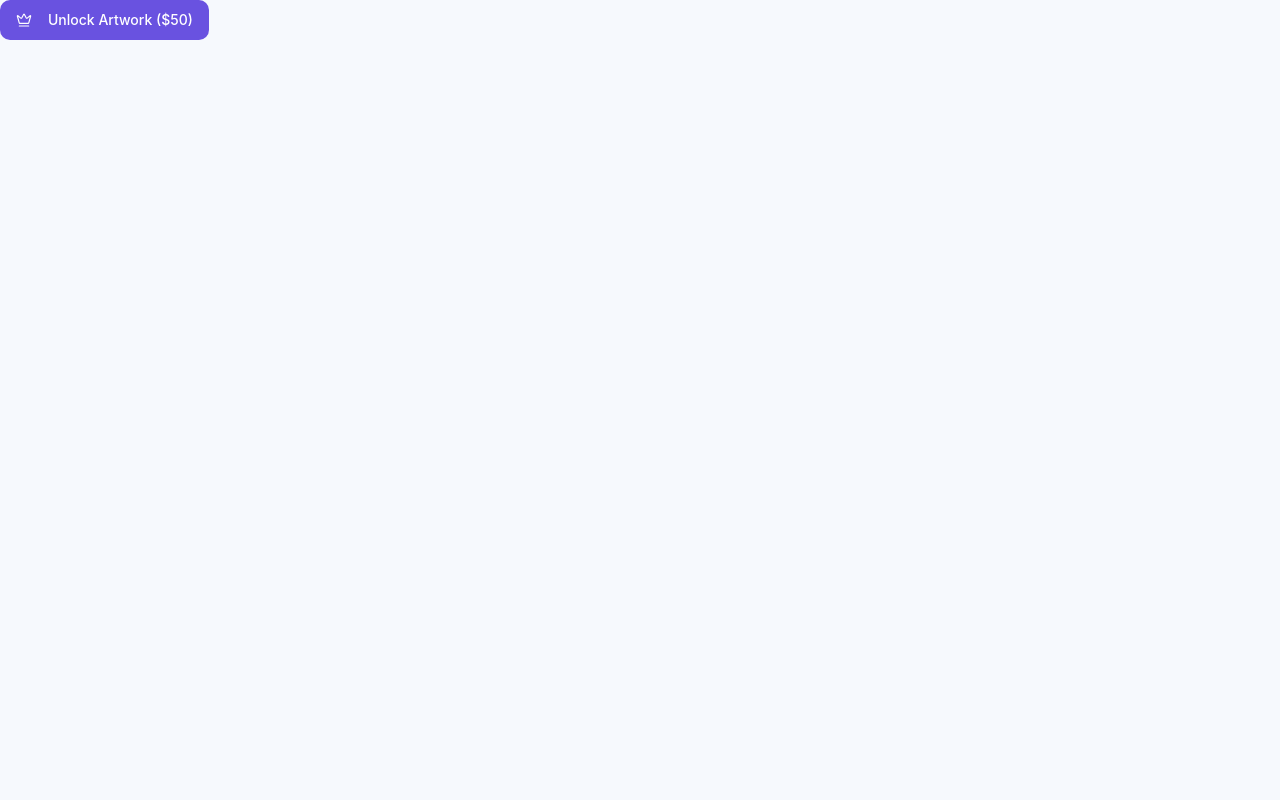
Test: PayArtworkButton — Stripe flow › retries successfully after a prior failure
The width and height of the screenshot is (1280, 800).
Later steps or results of the test are not shown.
Step 1. Click the button "Unlock Artwork ($50)" → (104, 20), box [0,0,209,40]
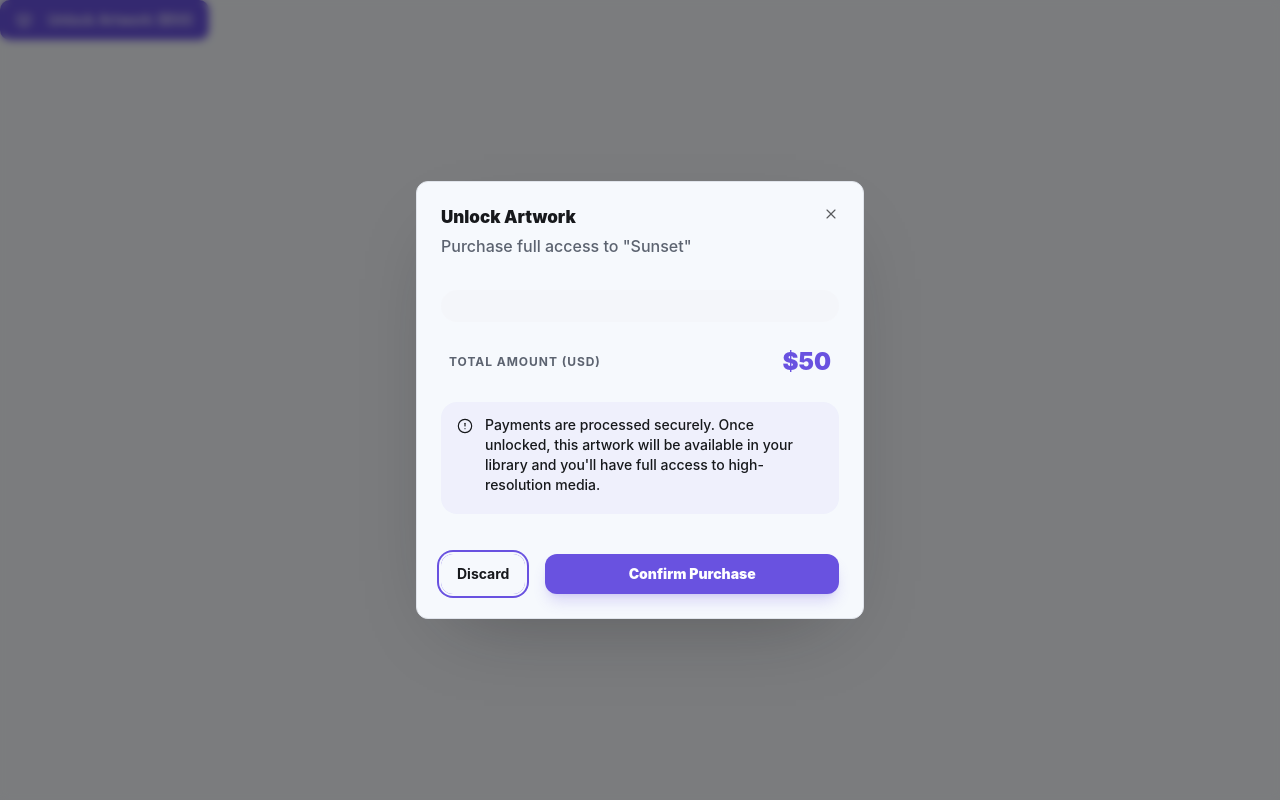
Step 2. Click the button "Confirm Purchase" → (692, 574), box [545,554,839,594]
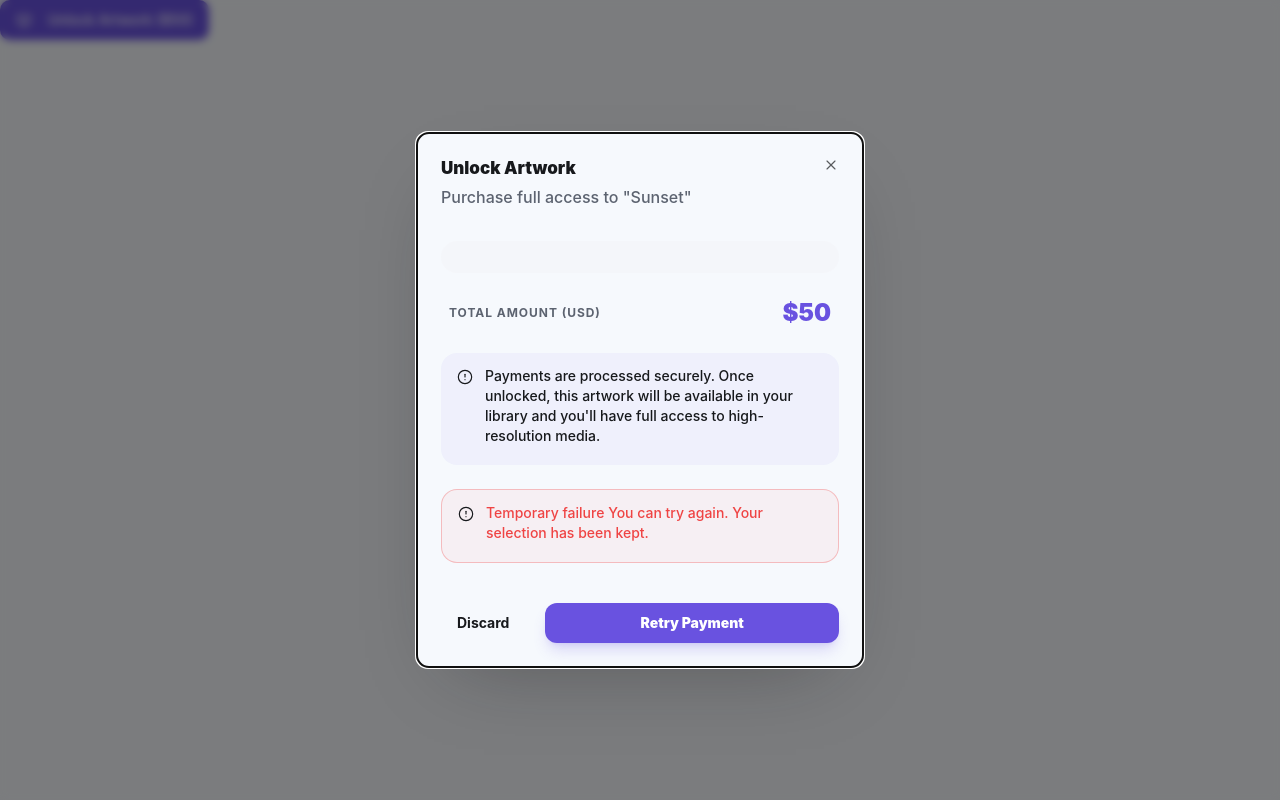
Check: the message "Temporary failure You can try again. Your selection has been kept." is shown, box [441,489,839,563]
